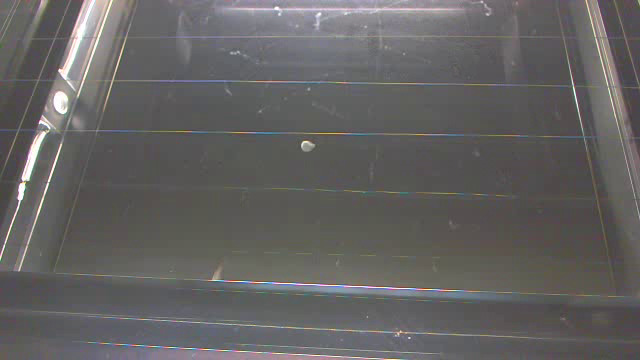alpha: (299, 139, 317, 154)
